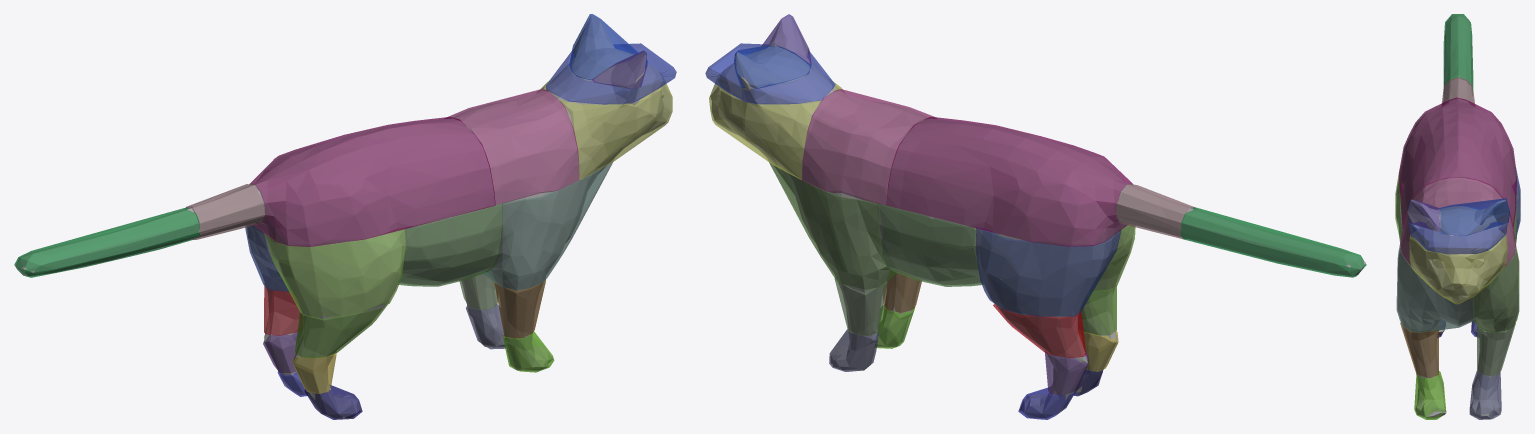
The model's file is decomp_cat.obj.
3 renders of one model, left to right at view 1: azimuth 30°, elevation 25°; view 2: azimuth 150°, elevation 25°; view 3: azimuth 270°, elevation 25°, orthographic. The views are drawn at different scales.
Parts seen in each view (by area): view 1: grp1_GM_grp1.001, Shape_IndexedFaceSet.003, grp1, Shape_IndexedFaceSet.004, Shape_IndexedFaceSet.012, Shape_IndexedFaceSet.017, Shape_IndexedFaceSet, Shape_IndexedFaceSet.001, Shape_IndexedFaceSet.005, Shape_IndexedFaceSet.006, Shape_IndexedFaceSet.002, Shape_IndexedFaceSet.011 (+11 smaller); view 2: grp1_GM_grp1.001, Shape_IndexedFaceSet.003, Shape_IndexedFaceSet.004, Shape_IndexedFaceSet.014, Shape_IndexedFaceSet.018, Shape_IndexedFaceSet, Shape_IndexedFaceSet.001, Shape_IndexedFaceSet.005, grp1, Shape_IndexedFaceSet.006, Shape_IndexedFaceSet.002, Shape_IndexedFaceSet.013 (+11 smaller); view 3: grp1_GM_grp1.001, Shape_IndexedFaceSet.003, Shape_IndexedFaceSet.005, Shape_IndexedFaceSet.017, grp1, Shape_IndexedFaceSet.004, Shape_IndexedFaceSet.018, Shape_IndexedFaceSet.020, Shape_IndexedFaceSet.001, Shape_IndexedFaceSet.006, Shape_IndexedFaceSet.016, Shape_IndexedFaceSet.015 (+7 smaller).
Part boxes in pixels (bbox=[...]): grp1_GM_grp1.001: bbox=[15, 15, 670, 418]; Shape_IndexedFaceSet.003: bbox=[249, 117, 495, 246]; grp1: bbox=[304, 30, 667, 226]; Shape_IndexedFaceSet.004: bbox=[445, 89, 579, 204]; Shape_IndexedFaceSet.012: bbox=[264, 229, 405, 317]; Shape_IndexedFaceSet.017: bbox=[482, 159, 613, 289]; Shape_IndexedFaceSet: bbox=[398, 203, 502, 286]; Shape_IndexedFaceSet.001: bbox=[14, 207, 199, 277]; Shape_IndexedFaceSet.005: bbox=[539, 73, 672, 179]; Shape_IndexedFaceSet.006: bbox=[545, 43, 676, 104]; Shape_IndexedFaceSet.002: bbox=[186, 184, 265, 239]; Shape_IndexedFaceSet.011: bbox=[295, 302, 388, 358]; grp1_GM_grp1.001: bbox=[710, 16, 1365, 418]; Shape_IndexedFaceSet.003: bbox=[886, 117, 1132, 246]; Shape_IndexedFaceSet.004: bbox=[801, 89, 936, 205]; Shape_IndexedFaceSet.014: bbox=[975, 228, 1121, 316]; Shape_IndexedFaceSet.018: bbox=[769, 161, 897, 289]; Shape_IndexedFaceSet: bbox=[879, 204, 983, 286]; Shape_IndexedFaceSet.001: bbox=[1181, 207, 1366, 277]; Shape_IndexedFaceSet.005: bbox=[709, 74, 843, 179]; grp1: bbox=[727, 16, 1057, 417]; Shape_IndexedFaceSet.006: bbox=[705, 43, 835, 104]; Shape_IndexedFaceSet.002: bbox=[1116, 183, 1194, 239]; Shape_IndexedFaceSet.013: bbox=[993, 304, 1086, 357]; grp1_GM_grp1.001: bbox=[1396, 15, 1520, 418]; Shape_IndexedFaceSet.003: bbox=[1399, 97, 1516, 228]; Shape_IndexedFaceSet.005: bbox=[1409, 234, 1507, 304]; Shape_IndexedFaceSet.017: bbox=[1396, 234, 1473, 332]; grp1: bbox=[1406, 113, 1511, 263]; Shape_IndexedFaceSet.004: bbox=[1400, 177, 1515, 266]; Shape_IndexedFaceSet.018: bbox=[1473, 234, 1519, 332]; Shape_IndexedFaceSet.020: bbox=[1440, 198, 1509, 235]; Shape_IndexedFaceSet.001: bbox=[1443, 14, 1473, 89]; Shape_IndexedFaceSet.006: bbox=[1408, 209, 1507, 254]; Shape_IndexedFaceSet.016: bbox=[1477, 323, 1515, 375]; Shape_IndexedFaceSet.015: bbox=[1400, 322, 1438, 377].
Bounding box in the file's own units: 14.99 × 6.54 × 2.85.
